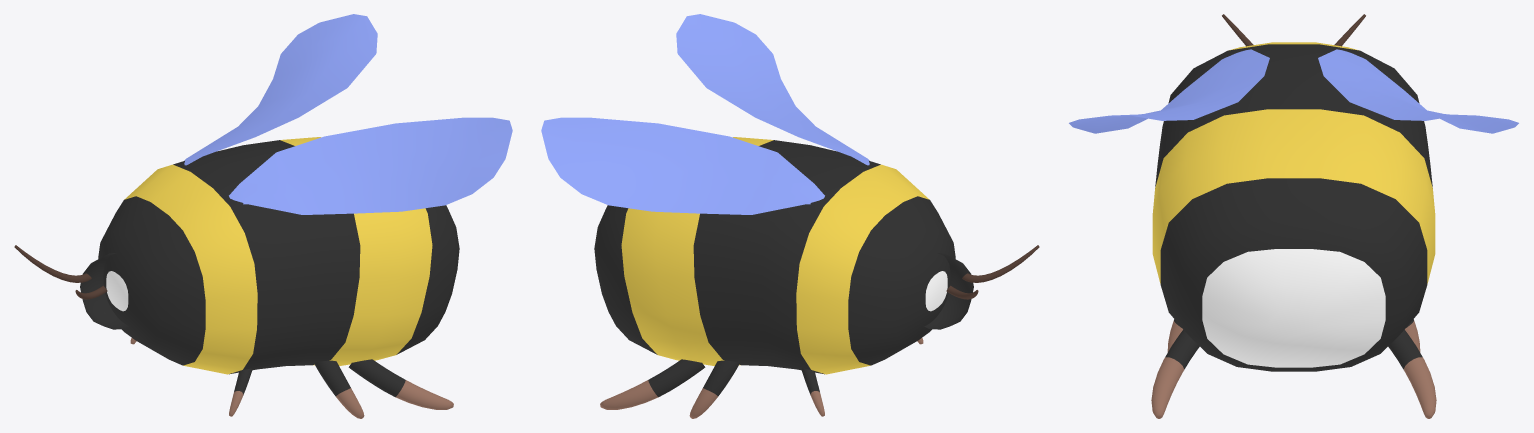
File: bee.glb
3 views of the same model, side by side, from view 1: azimuth 30°, elevation 25°; view 2: azimuth 150°, elevation 25°; view 3: azimuth 270°, elevation 25° (orthographic). The views are drawn at different scales.
Visible parts, largest first — view 1: bumblebee; view 2: bumblebee; view 3: bumblebee.
Boxes of the visible parts, <box> form: bumblebee: <box>14,14,512,418</box>; bumblebee: <box>541,14,1039,418</box>; bumblebee: <box>1069,14,1518,418</box>.
Size of the model in its own units: 1.72 by 1.19 by 1.48.
